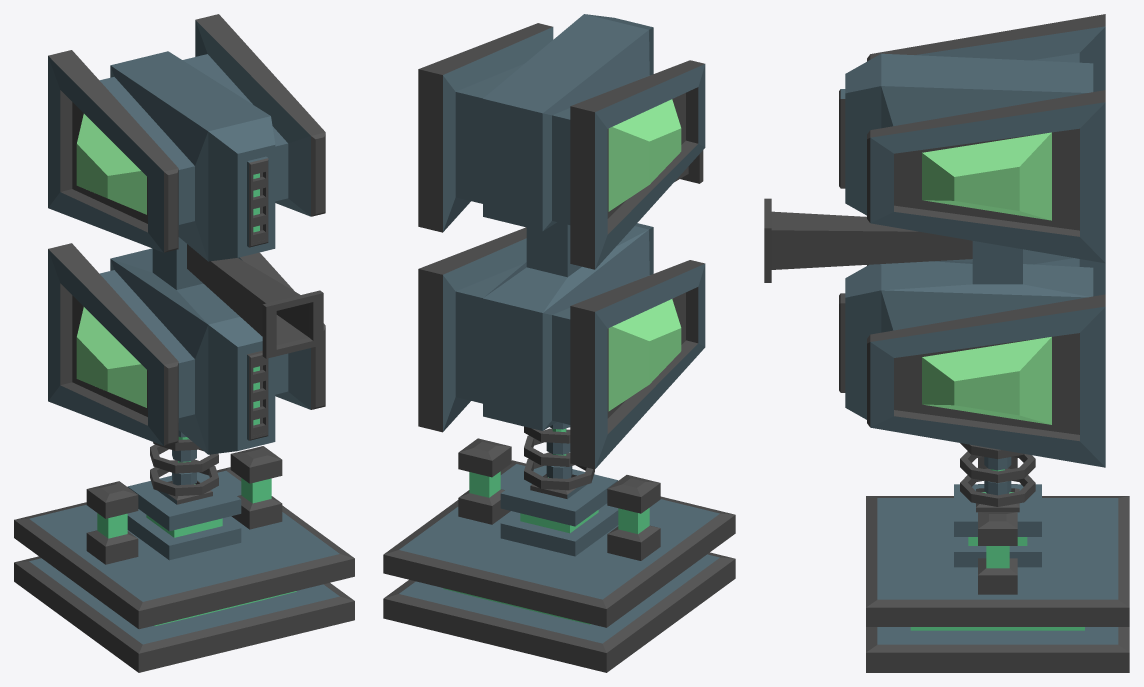
File: AntiMatterTurret.fbx
3 views of the same model, side by side, from view 1: azimuth 30°, elevation 25°; view 2: azimuth 150°, elevation 25°; view 3: azimuth 270°, elevation 25° (orthographic). The views are drawn at different scales.
Visible parts, largest first — view 1: Cube, Cube.011, Cylinder.002, Cylinder.001, Cylinder.003; view 2: Cube, Cube.011, Cylinder.002, Cylinder.003, Cylinder.001; view 3: Cube, Cube.011, Cylinder.002, Cylinder.001, Cylinder.003.
Part boxes in pixels (<box>): Cube: <box>48,14,325,454</box>; Cube.011: <box>14,446,354,672</box>; Cylinder.002: <box>150,459,218,496</box>; Cylinder.001: <box>150,444,218,473</box>; Cylinder.003: <box>172,430,196,485</box>; Cube: <box>418,14,705,469</box>; Cube.011: <box>383,438,735,672</box>; Cylinder.002: <box>524,452,594,490</box>; Cylinder.003: <box>546,422,572,478</box>; Cylinder.001: <box>524,428,575,466</box>; Cube: <box>764,14,1105,467</box>; Cube.011: <box>866,457,1129,672</box>; Cylinder.002: <box>960,468,1035,506</box>; Cylinder.001: <box>960,451,1035,482</box>; Cylinder.003: <box>984,457,1011,495</box>.
Bounding box in the file's own units: 700 × 1636 × 970.
